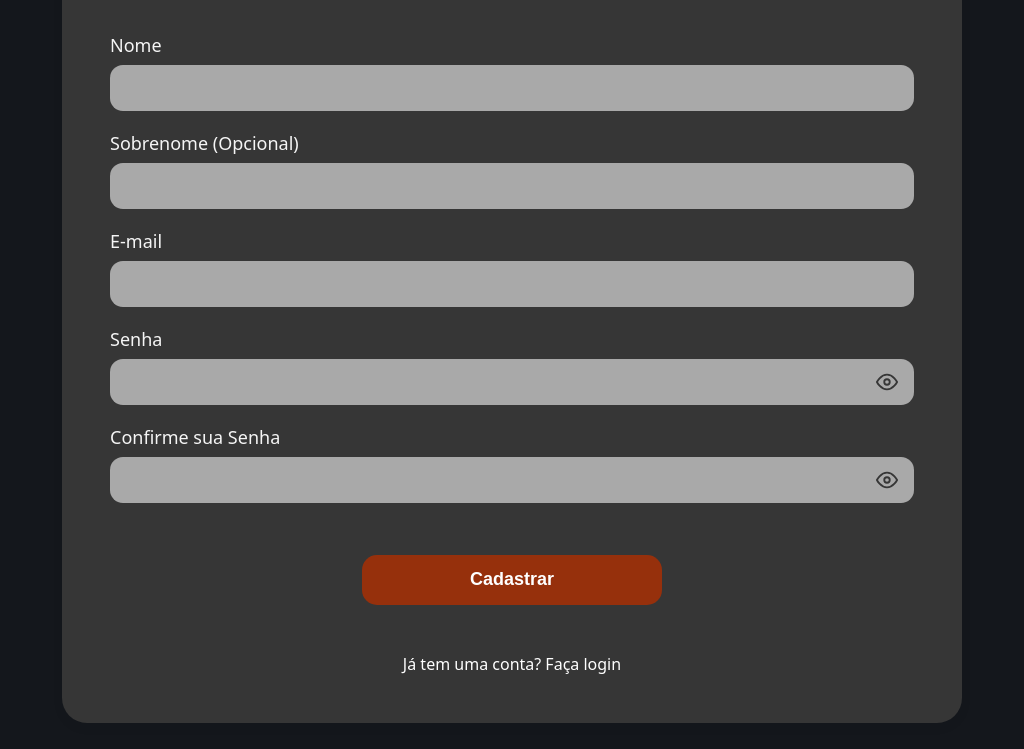
Test: RegisterPage › deve mostrar erros de validação quando campos obrigatórios vazios
(page scrolled)
Click the button "Cadastrar": (512, 580) [362,555,662,605]
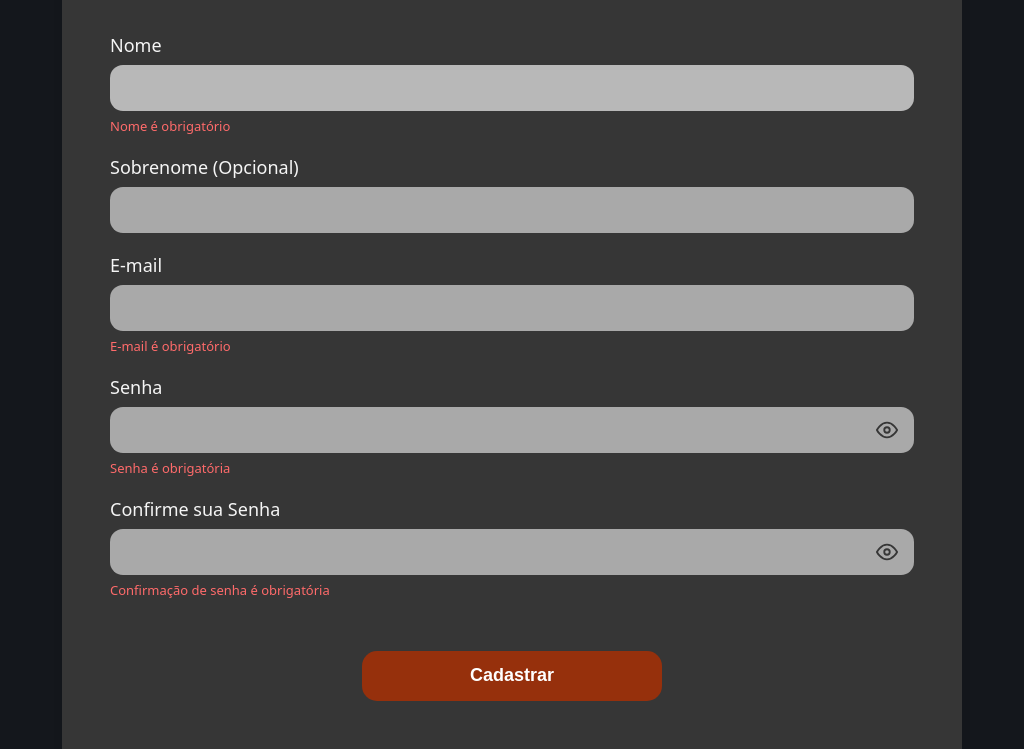
Expected: the text "Nome é obrigatório" is shown, [110,117,230,135]
Expected: the text "E-mail é obrigatório" is shown, [110,337,231,355]
Expected: the text "Senha é obrigatória" is shown, [110,459,230,477]
